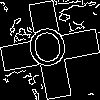O: (25, 25, 72, 78)
